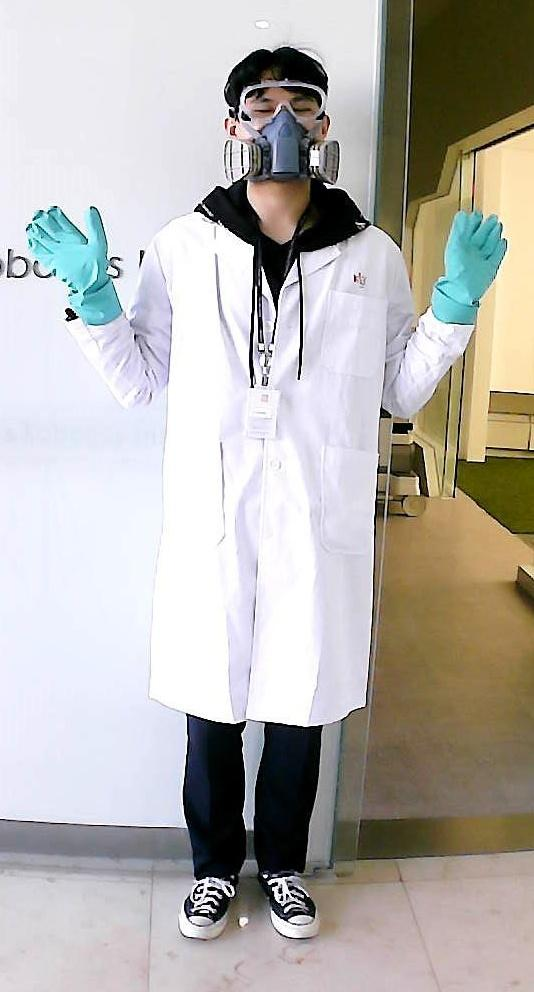lab_coat: (128, 228, 396, 699)
